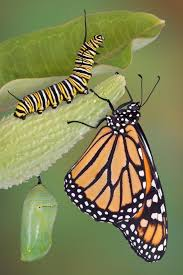Butterfly: (63, 74, 169, 264)
Caterpillar: (6, 10, 104, 118)
